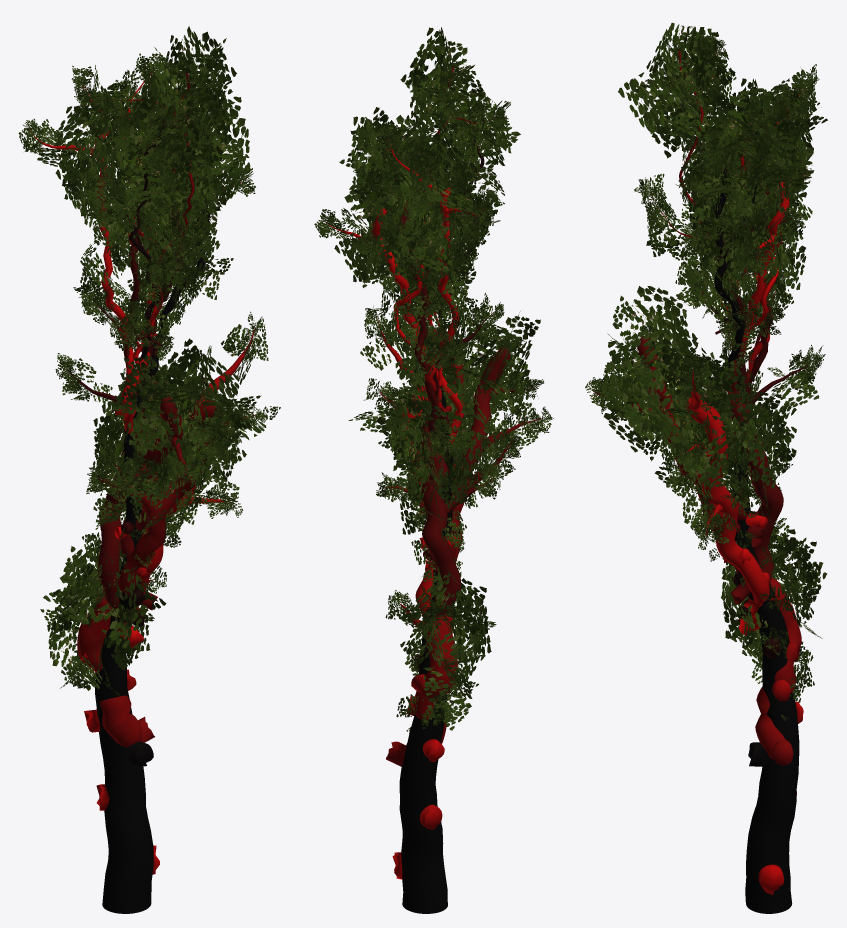
3 renders of one model, left to right at view 1: azimuth 30°, elevation 25°; view 2: azimuth 150°, elevation 25°; view 3: azimuth 270°, elevation 25°, orthographic. The views are drawn at different scales.
Parts seen in each view (by area): view 1: Tree261; view 2: Tree261; view 3: Tree261.
Part boxes in pixels (x1,y1,x2,y2): Tree261: [18, 26, 280, 913]; Tree261: [314, 27, 553, 913]; Tree261: [585, 22, 827, 913].
Size of the model in its own units: 3 by 12 by 3.
